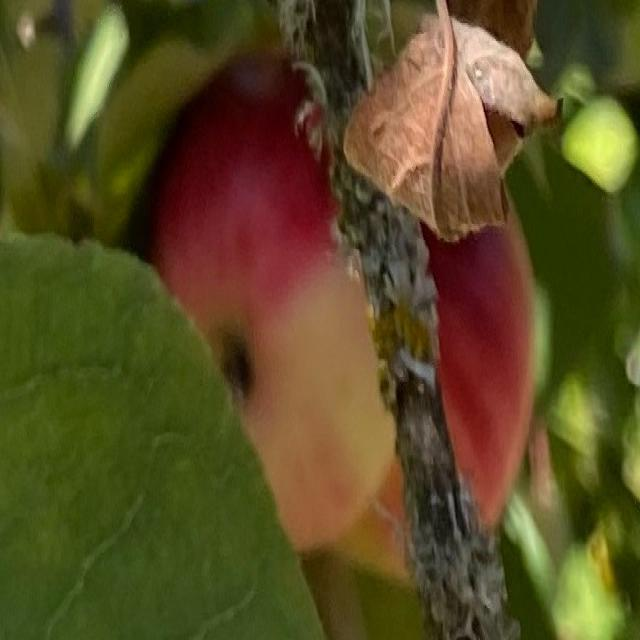Apples: (147, 55, 394, 549), (339, 174, 533, 580)
